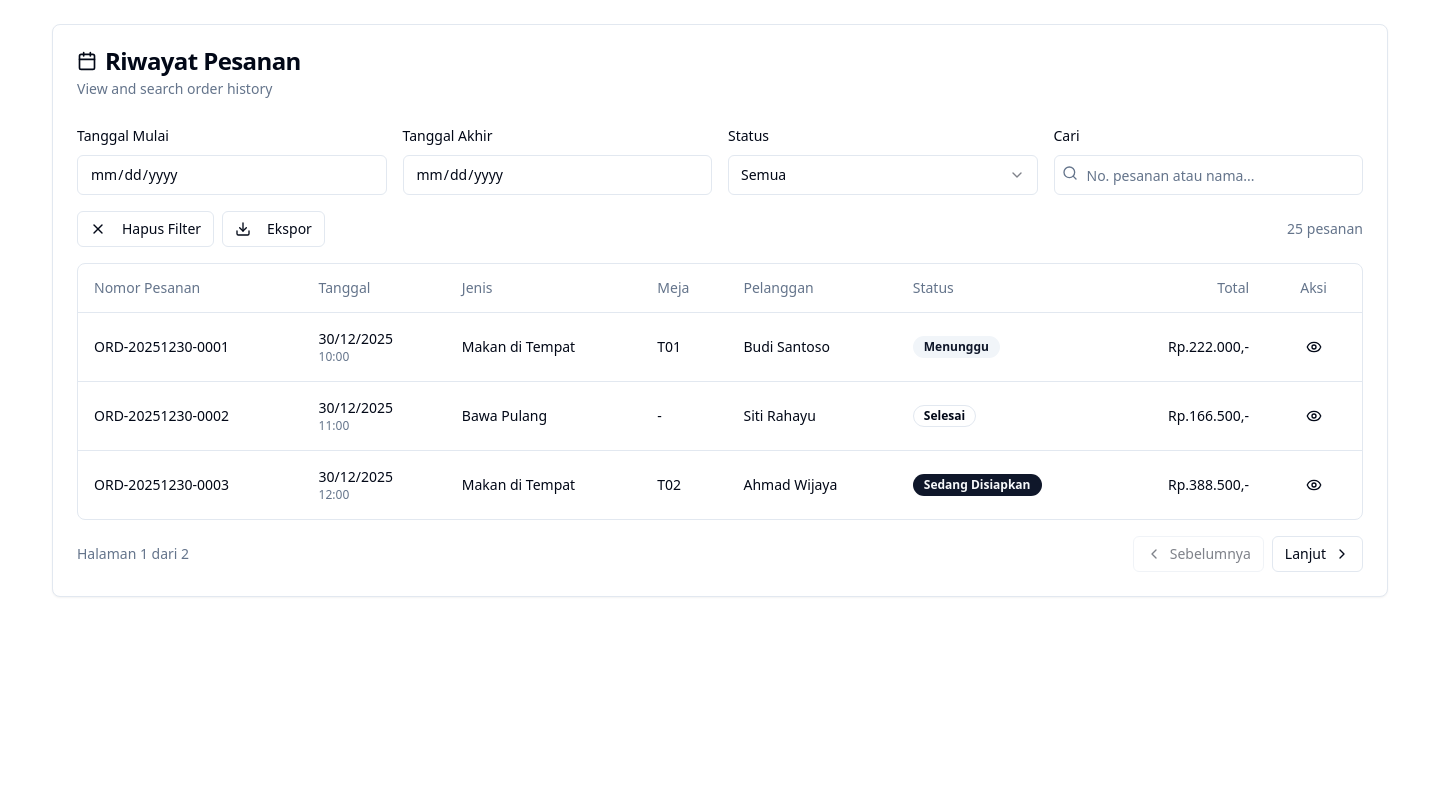
Scenario: AdminOrderHistory (OrderManagement) › OrderManagement_ShowsOrderDetails › opens order details modal when view button clicked
Expected: the text "ORD-20251230-0001" is shown, 78,312 -> 303,381
Click the button without text in the row of "ORD-20251230-0001" at (1314, 346), box 1294,328 -> 1334,364
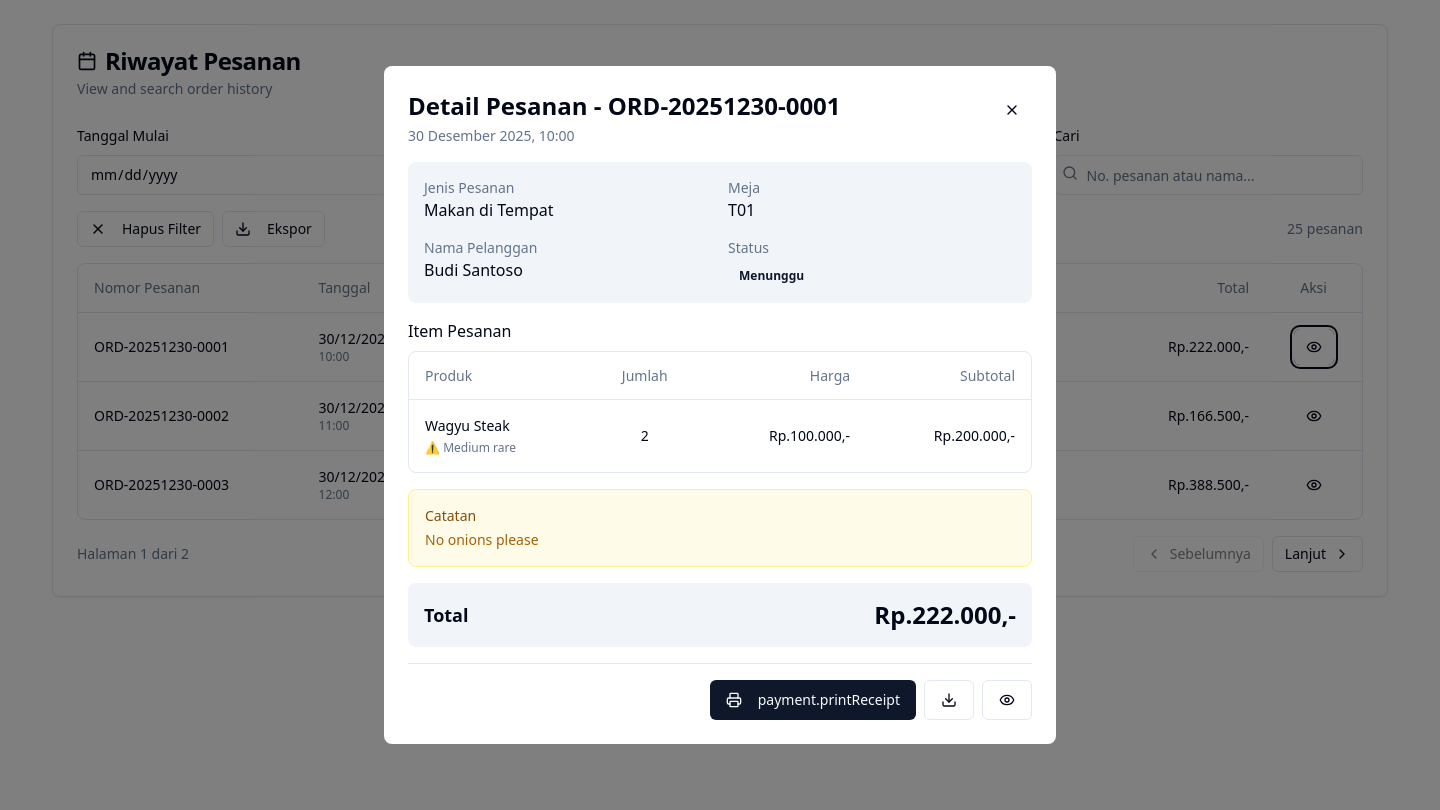
Expected: the heading "Detail Pesanan - ORD-20251230-0001" is shown, 408,90 -> 841,122
